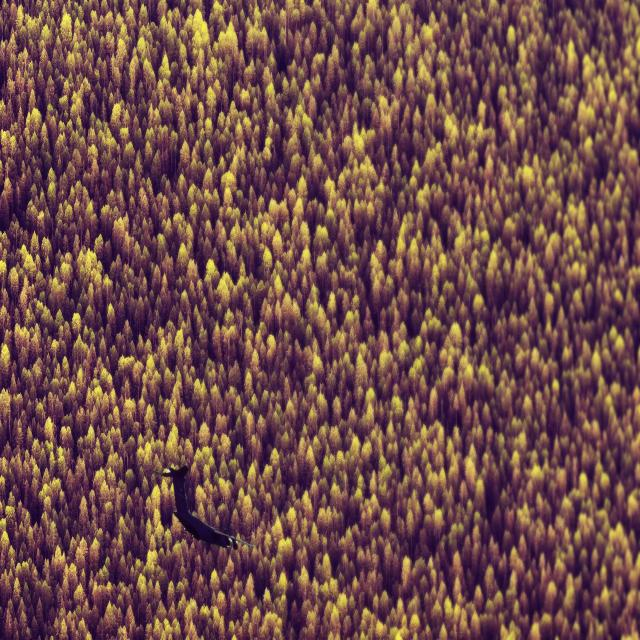airplane: (153, 463, 255, 552)
